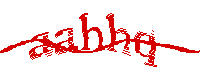a: (29, 30, 52, 60), (53, 26, 76, 56)
h: (78, 13, 105, 53), (105, 13, 131, 54)
q: (134, 28, 160, 70)
